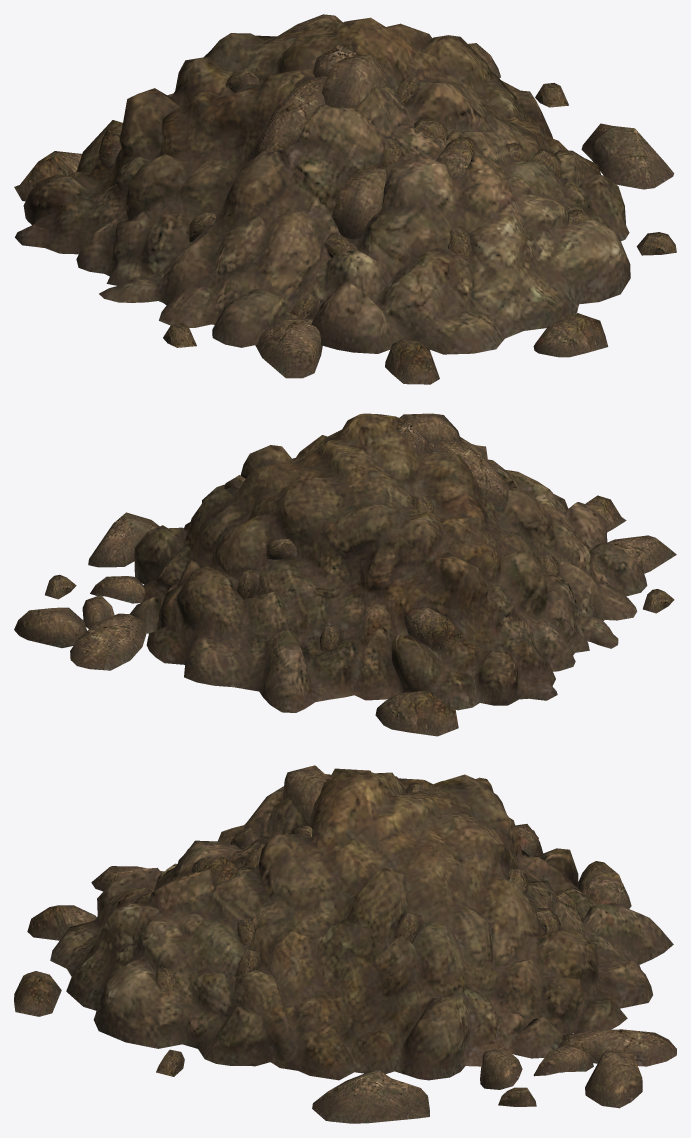
The picture shows the model from 3 angles, top to bottom: view 1: azimuth 30°, elevation 25°; view 2: azimuth 150°, elevation 25°; view 3: azimuth 270°, elevation 25°; orthographic projection. The views are drawn at different scales.
Parts seen in each view (by area): view 1: M1_LD_WyvernsValley_DZMine_MineHeap02_SM_SCY; view 2: M1_LD_WyvernsValley_DZMine_MineHeap02_SM_SCY; view 3: M1_LD_WyvernsValley_DZMine_MineHeap02_SM_SCY.
Part boxes in pixels (x1,y1,x2,y2): M1_LD_WyvernsValley_DZMine_MineHeap02_SM_SCY: (14,14,676,384); M1_LD_WyvernsValley_DZMine_MineHeap02_SM_SCY: (14,413,676,736); M1_LD_WyvernsValley_DZMine_MineHeap02_SM_SCY: (14,765,676,1123).
Bounding box in the file's own units: 1.42 × 0.5138 × 1.47.
